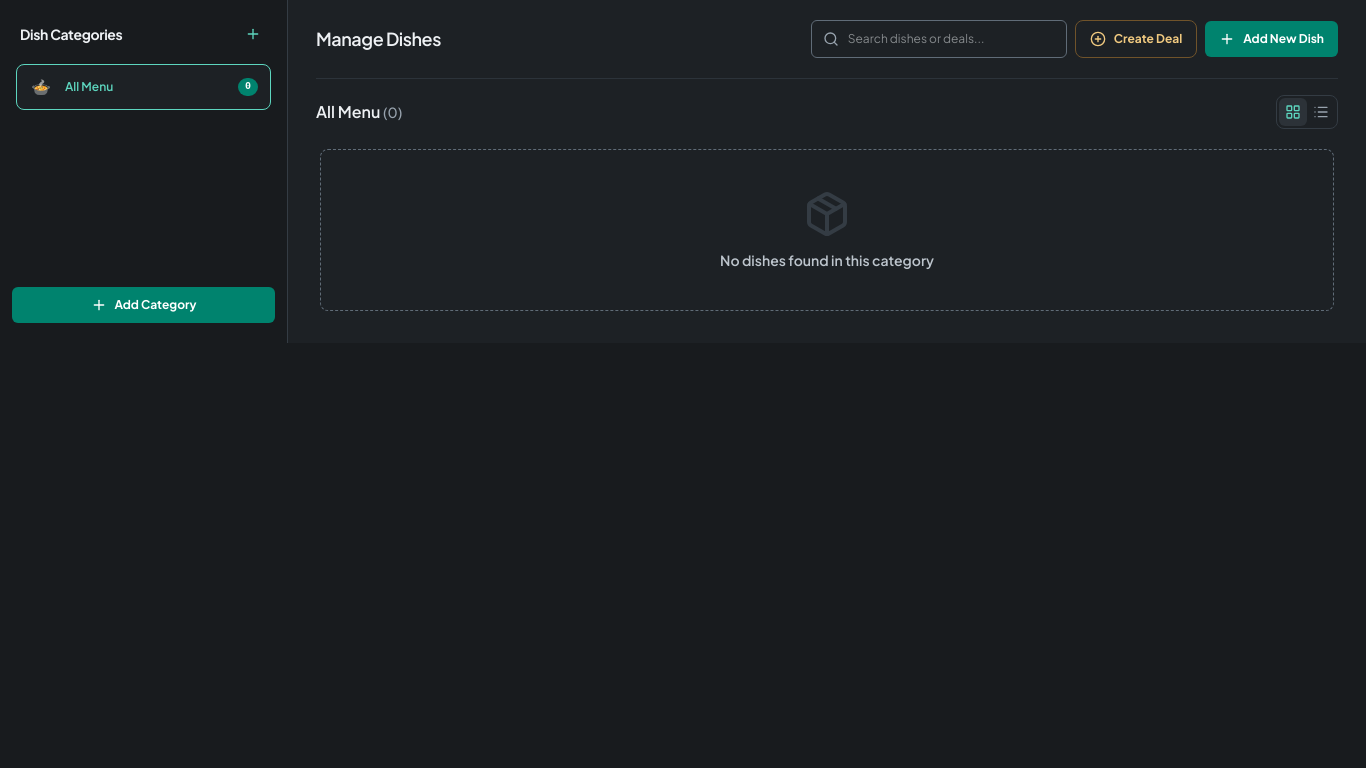
Test: category management › offers fast-food emoji presets when creating a category
Click the button named "add category" at (253, 34), box [239,20,267,48]
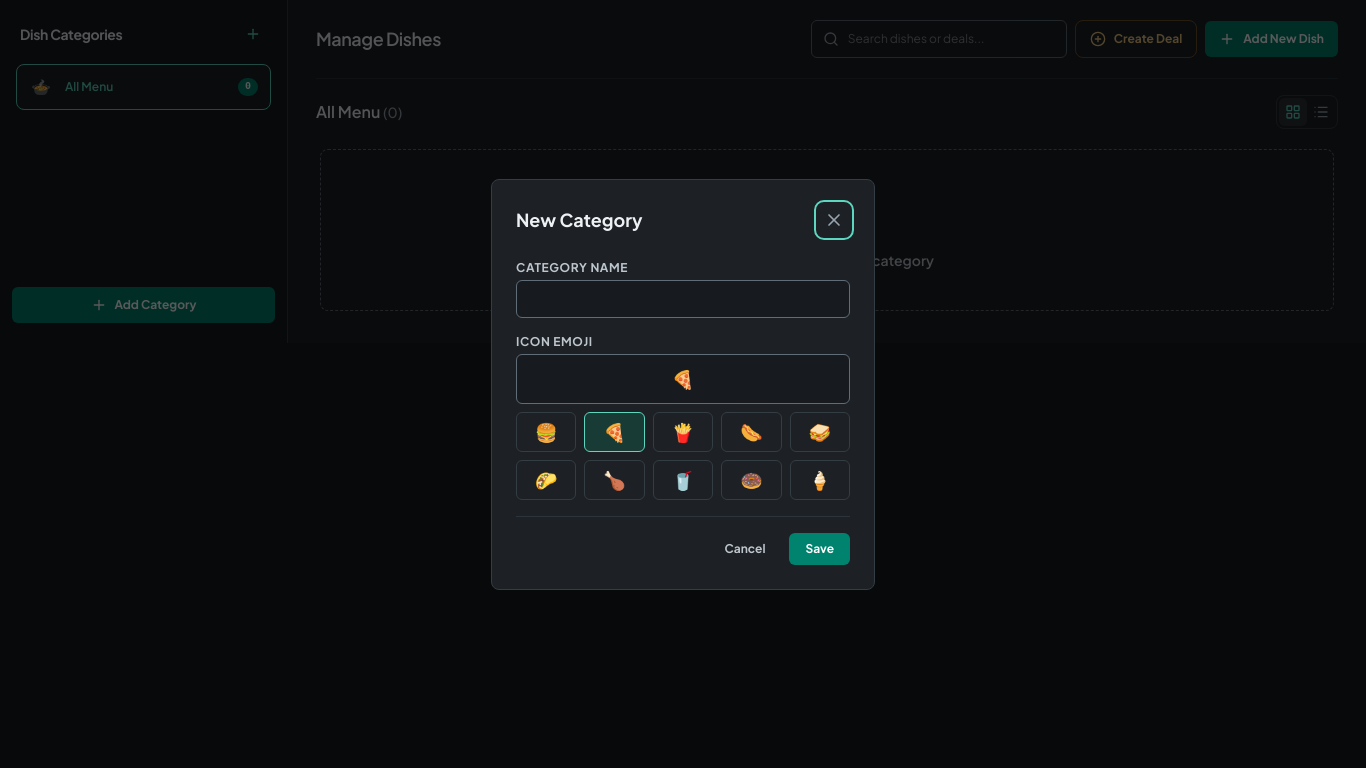
Click the button named "Use burger emoji" at (546, 432), box [516,412,576,452]
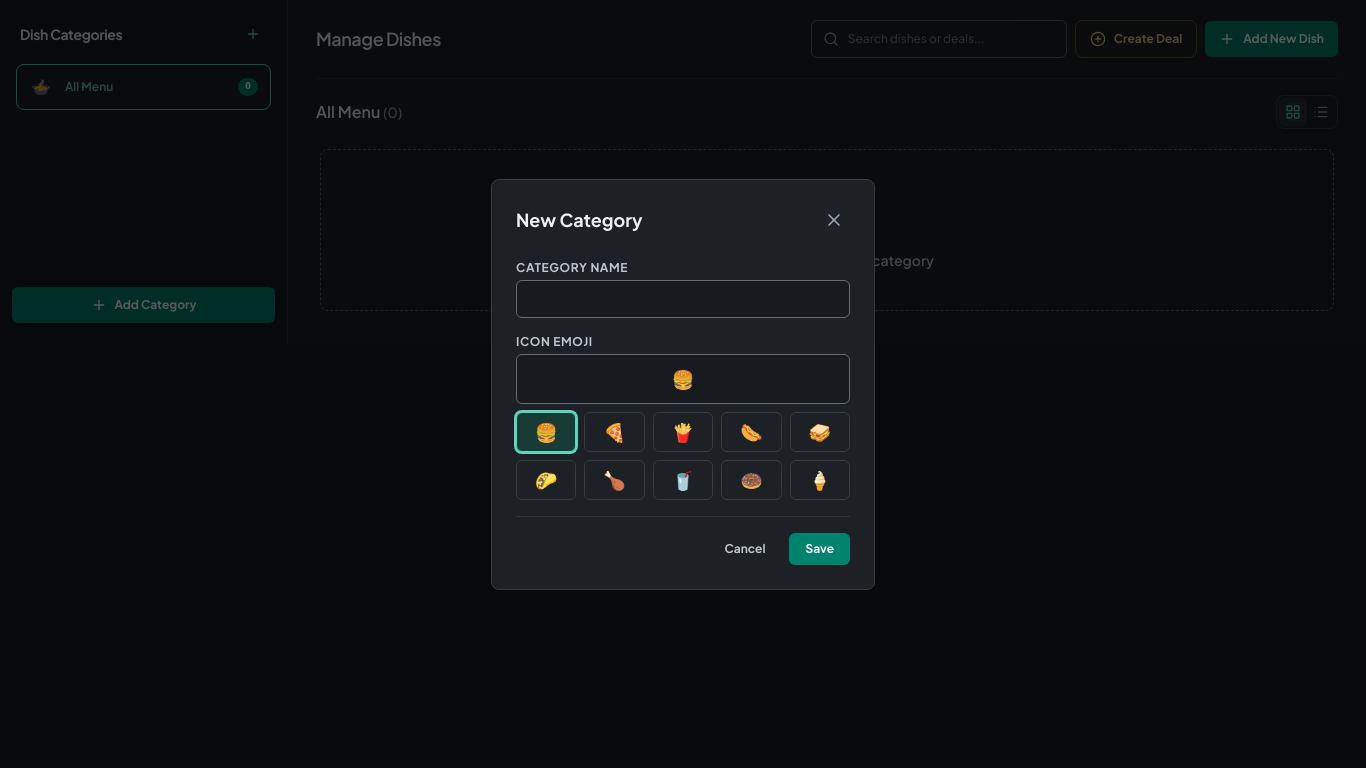
Check: the field labelled "Icon Emoji" holds "🍔", box [516,354,850,404]
